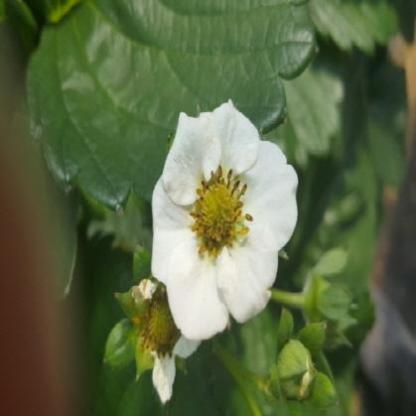Strawberry_Blossom_Blight: (188, 160, 254, 261)
